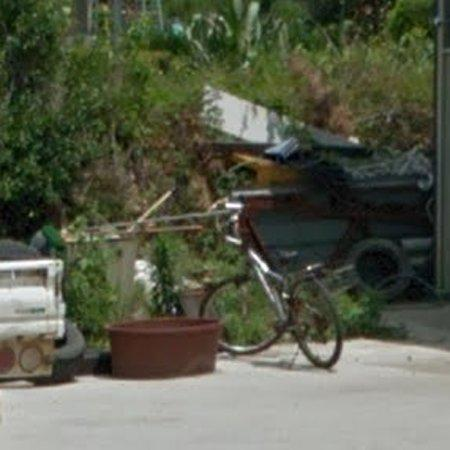bicycles: (200, 211, 344, 369)
